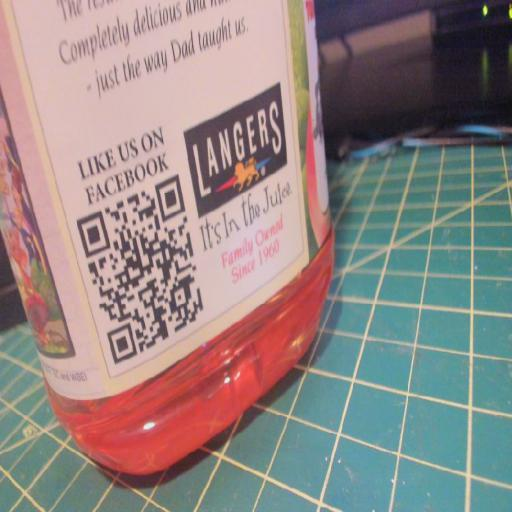QR_CODE: (68, 143, 212, 376)
